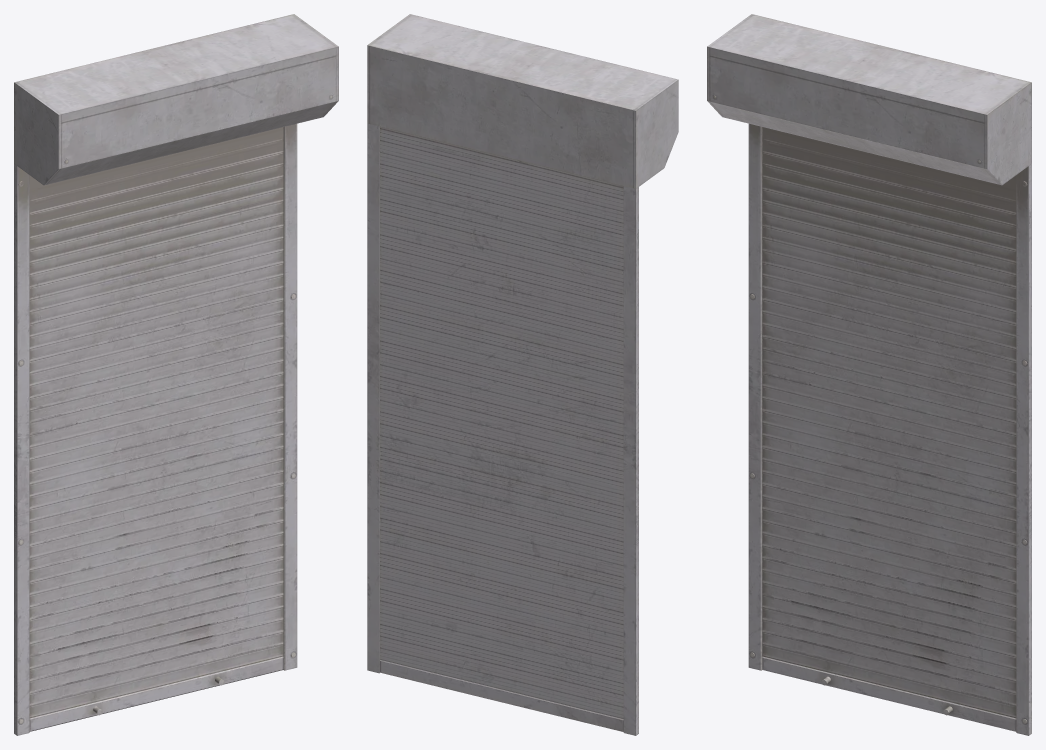
File: porta.glb
The picture shows the model from 3 angles, left to right: view 1: azimuth 30°, elevation 25°; view 2: azimuth 150°, elevation 25°; view 3: azimuth 330°, elevation 25°; orthographic projection. The views are drawn at different scales.
Parts seen in each view (by area): view 1: rollershutter_door; view 2: rollershutter_door; view 3: rollershutter_door.
Part boxes in pixels (x1,y1,x2,y2): rollershutter_door: (14, 14, 338, 735); rollershutter_door: (367, 14, 678, 735); rollershutter_door: (707, 14, 1031, 735).
Size of the model in its own units: 1.08 by 2.4 by 0.3.
Materials: 1 (1 with a texture image).
